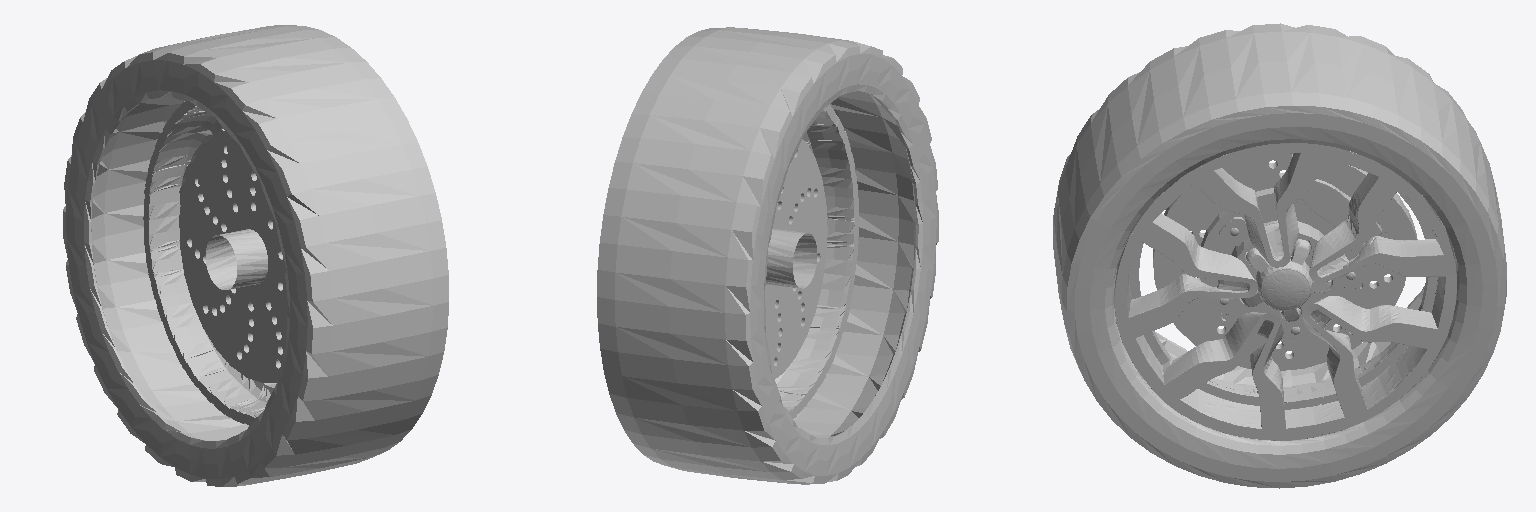
File: LlantaDI.obj
3 renders of one model, left to right at view 1: azimuth 30°, elevation 25°; view 2: azimuth 150°, elevation 25°; view 3: azimuth 270°, elevation 25°, orthographic.
Visible parts, largest first — view 1: audi_r8.003; view 2: audi_r8.003; view 3: audi_r8.003.
Boxes of the visible parts, x1=… form: audi_r8.003: x1=63, y1=25, x2=448, y2=486; audi_r8.003: x1=597, y1=27, x2=938, y2=484; audi_r8.003: x1=1053, y1=23, x2=1506, y2=488.
Size of the model in its own units: 0.9906 by 2.1 by 2.1.